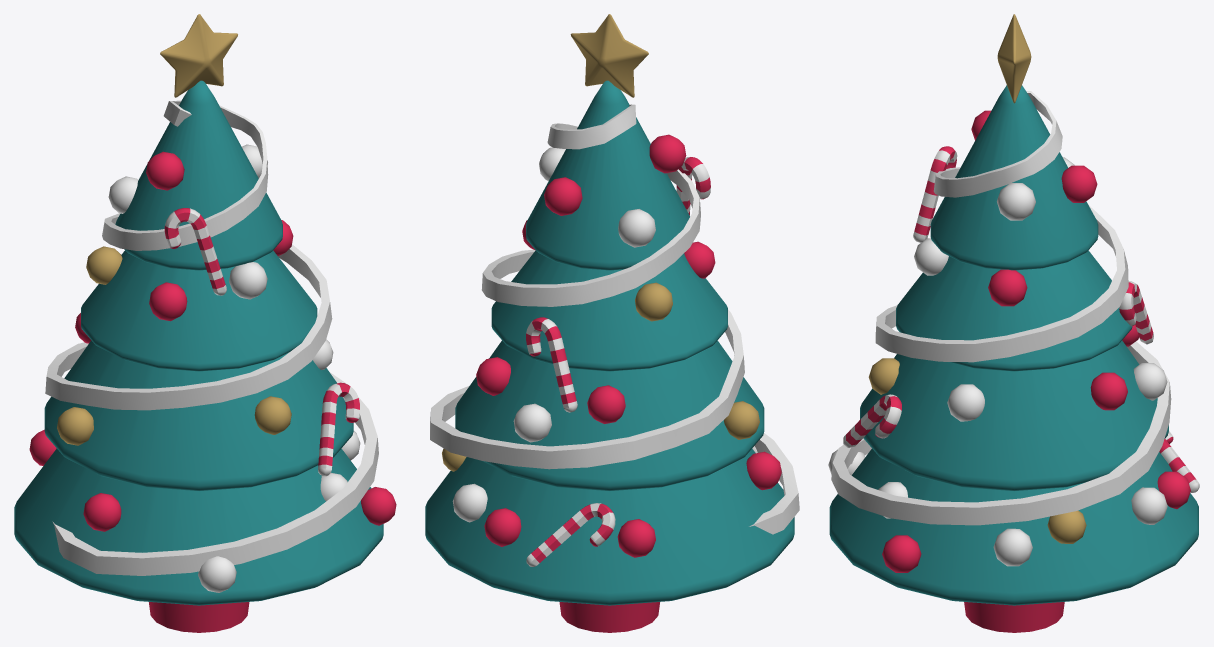
Rendered from tree_christmas.gltf.glb.
3 renders of one model, left to right at view 1: azimuth 30°, elevation 25°; view 2: azimuth 150°, elevation 25°; view 3: azimuth 270°, elevation 25°, orthographic.
Visible parts, largest first — view 1: tree_christmas; view 2: tree_christmas; view 3: tree_christmas.
Part boxes in pixels (<box>): tree_christmas: <box>14,14,396,632</box>; tree_christmas: <box>425,14,799,632</box>; tree_christmas: <box>828,14,1199,632</box>.
Bounding box in the file's own units: 2.62 × 4.61 × 2.59.
